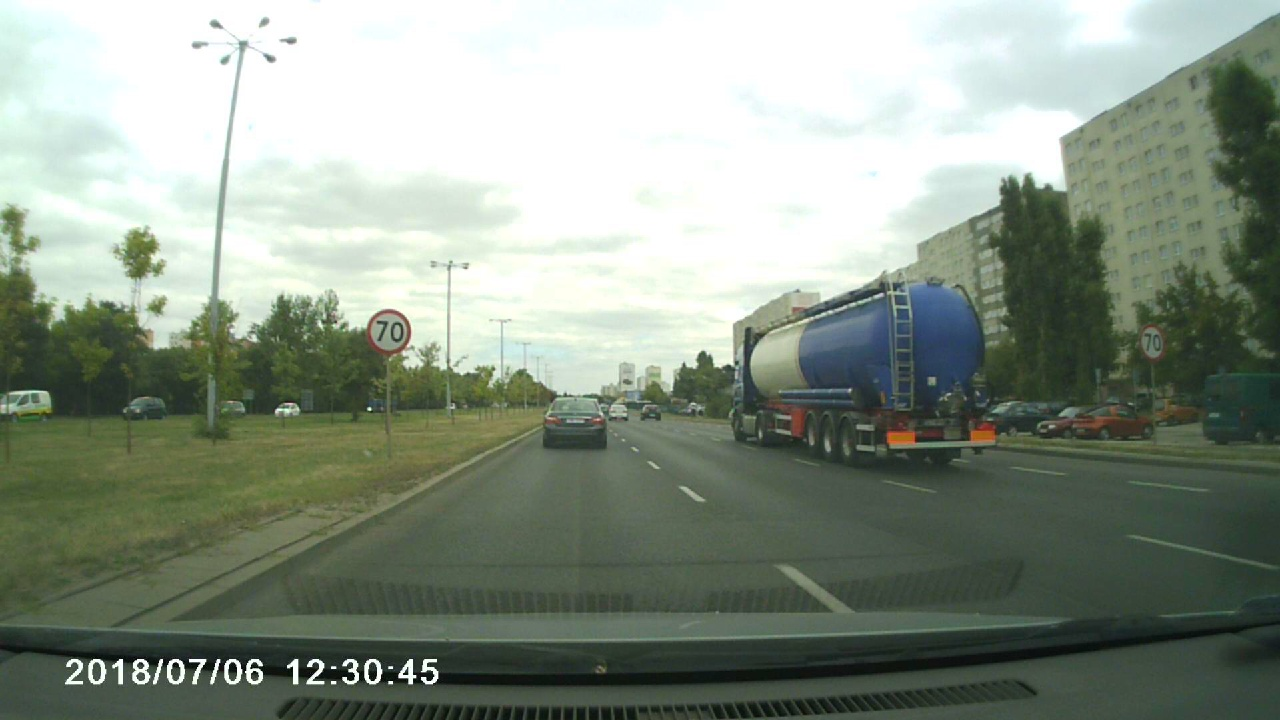B33_70: (368, 309, 412, 354), (1139, 325, 1166, 359)
